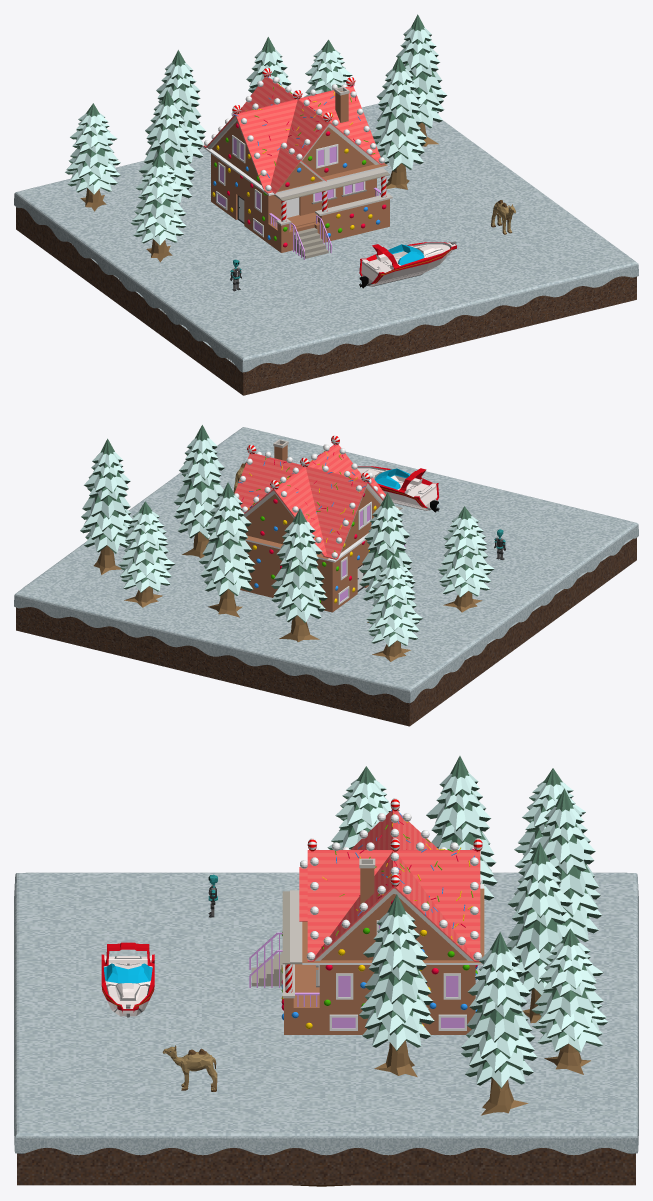
3 renders of one model, top to bottom at view 1: azimuth 30°, elevation 25°; view 2: azimuth 150°, elevation 25°; view 3: azimuth 270°, elevation 25°, orthographic. The views are drawn at different scales.
Visible parts, largest first — view 1: Cube.003, Cube.1203, VEHICLES_BOAT, ANIMAL_CAMELLO; view 2: Cube.003, Cube.1203, VEHICLES_BOAT; view 3: Cube.003, Cube.1203, VEHICLES_BOAT, ANIMAL_CAMELLO.
Part boxes in pixels (<box>): Cube.003: <box>14,14,638,395</box>; Cube.1203: <box>202,68,392,259</box>; VEHICLES_BOAT: <box>359,241,456,288</box>; ANIMAL_CAMELLO: <box>491,200,515,234</box>; Cube.003: <box>14,425,638,726</box>; Cube.1203: <box>234,435,405,612</box>; VEHICLES_BOAT: <box>357,466,439,512</box>; Cube.003: <box>14,756,638,1185</box>; Cube.1203: <box>249,798,484,1034</box>; VEHICLES_BOAT: <box>101,942,154,1017</box>; ANIMAL_CAMELLO: <box>162,1045,217,1091</box>.
Size of the model in its own units: 4040 by 1758 by 4040.
41 materials, 4 textured.
